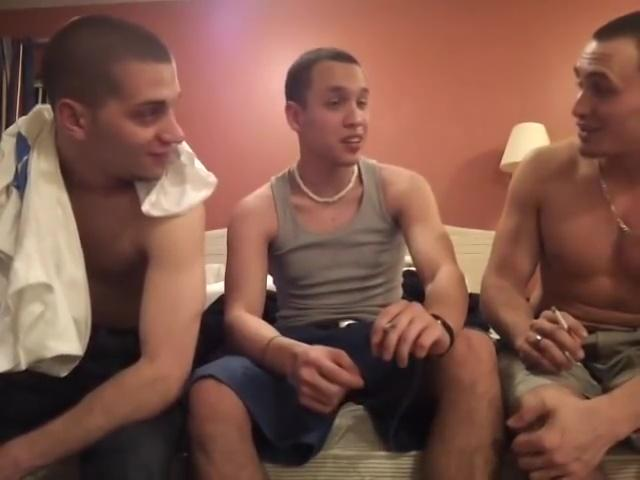cigarette: (549, 306, 574, 332)
